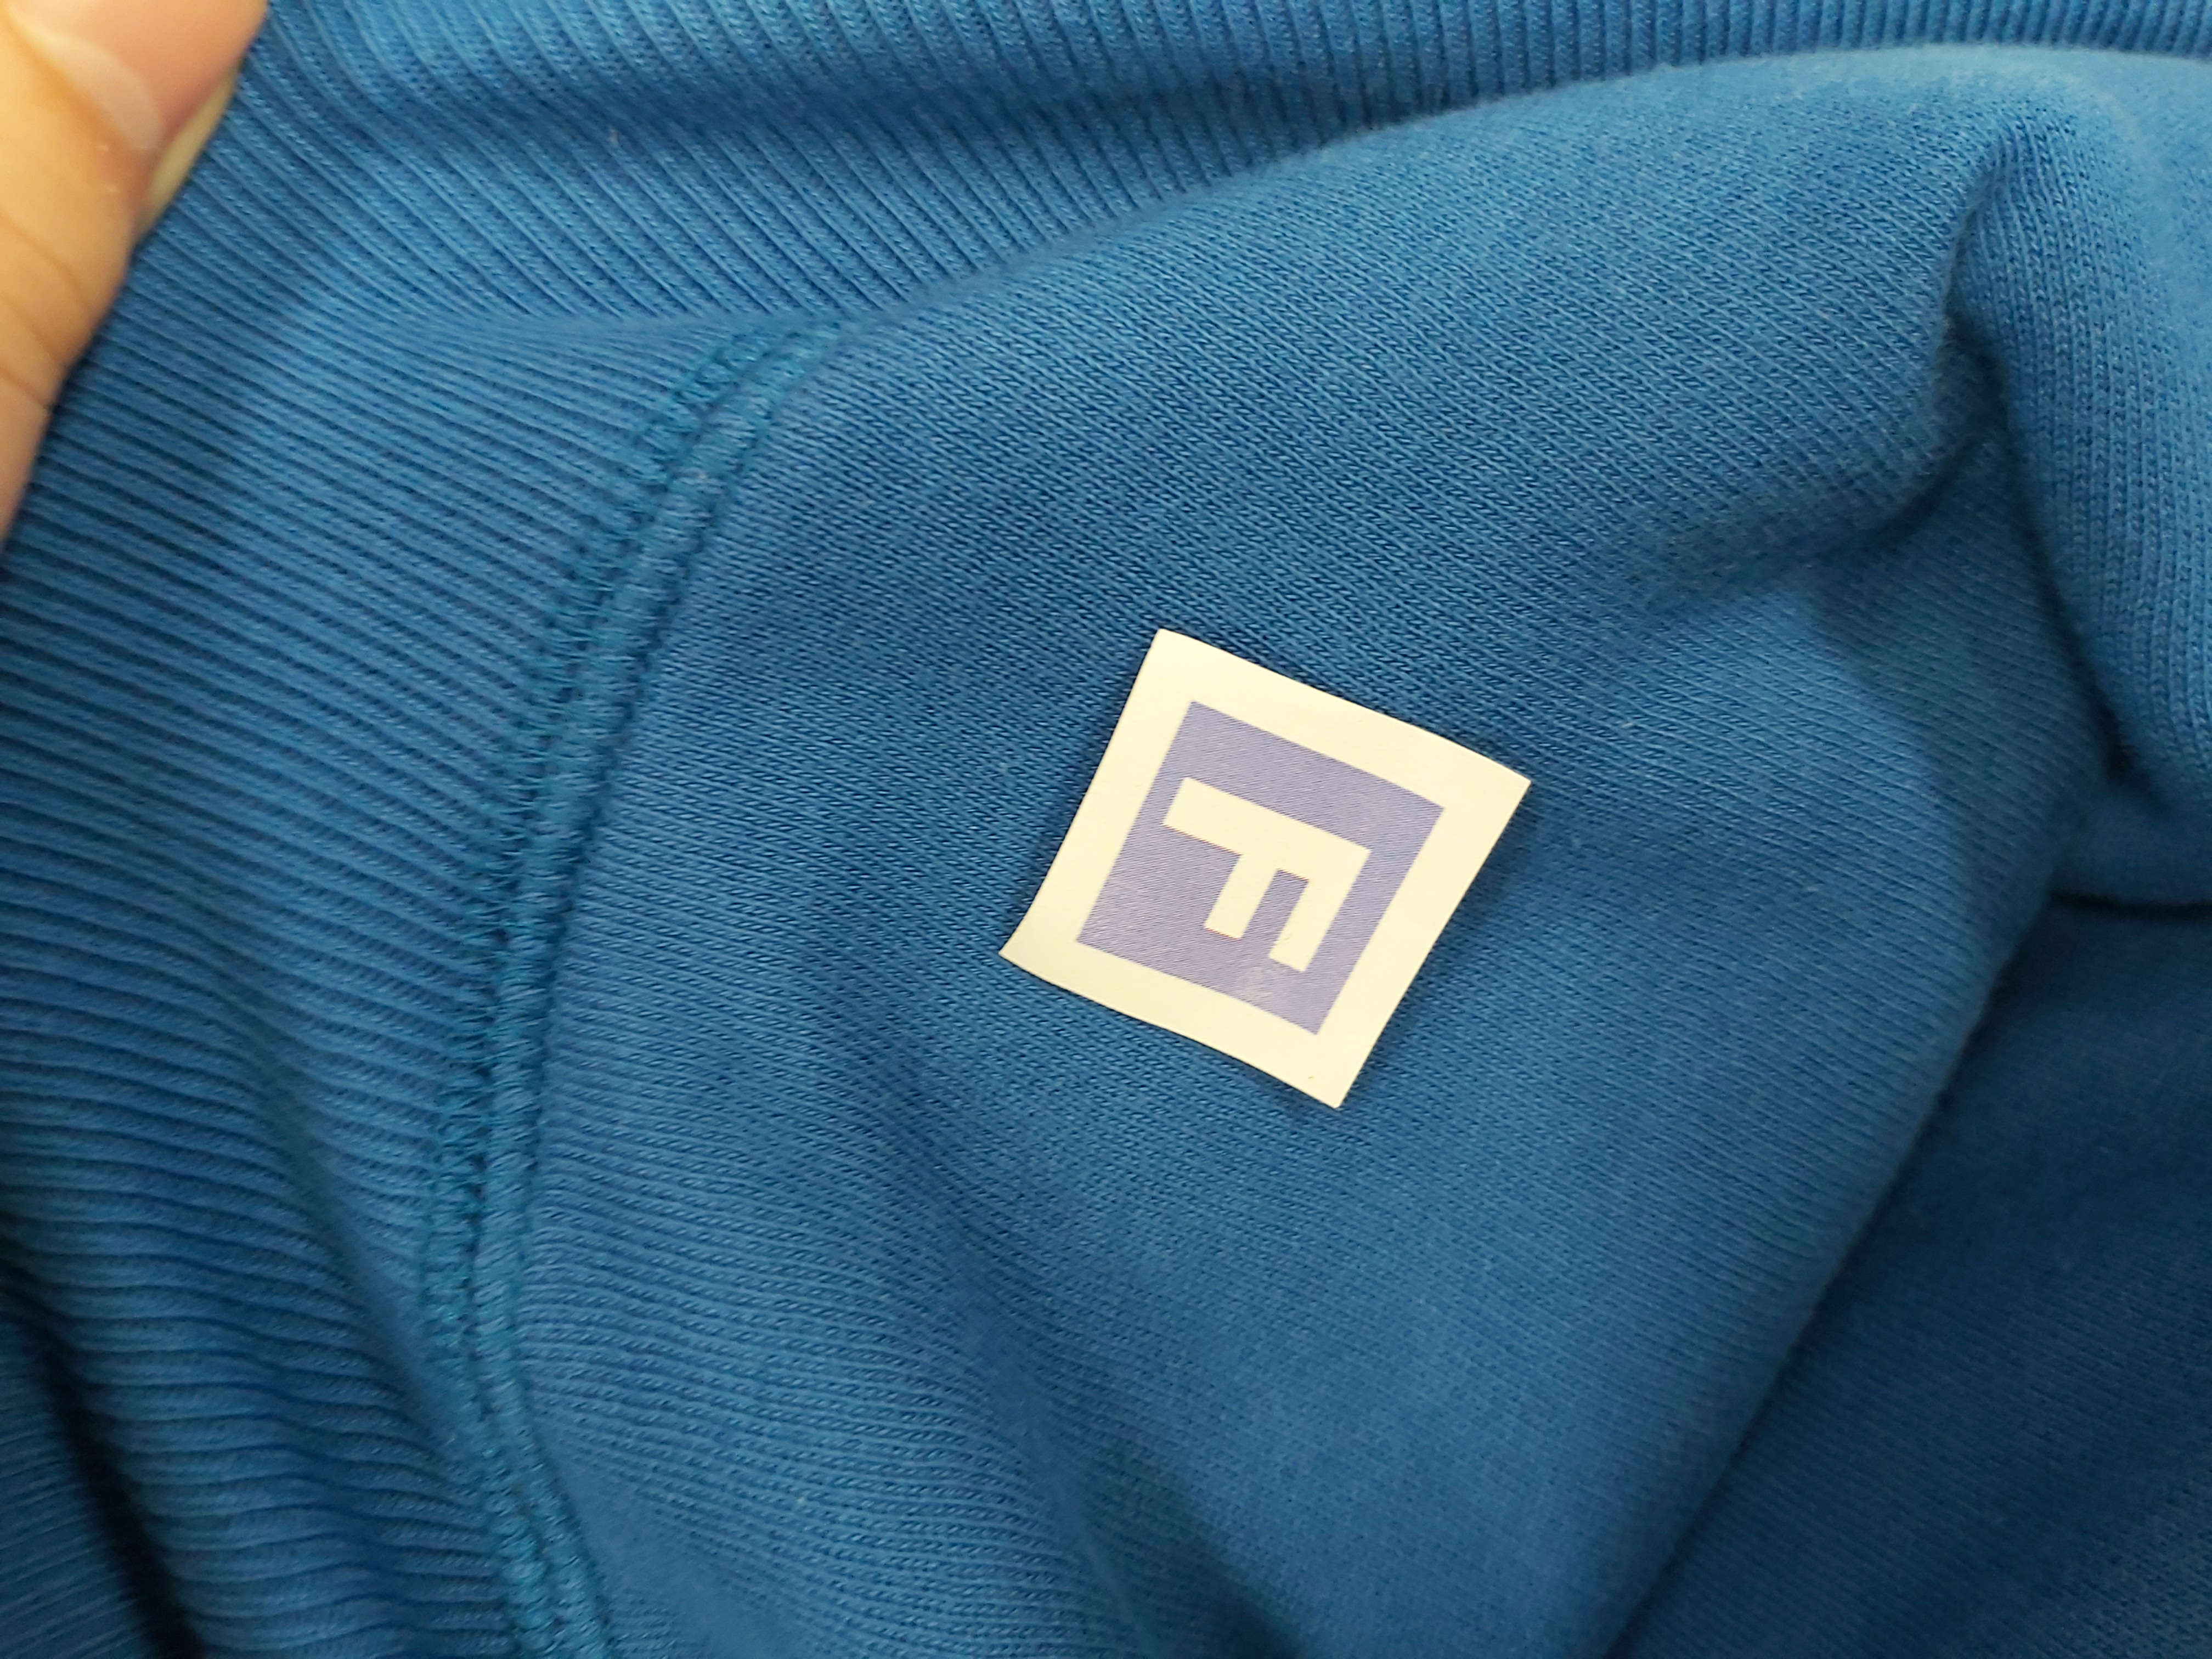marker: (1031, 627, 1538, 1124)
